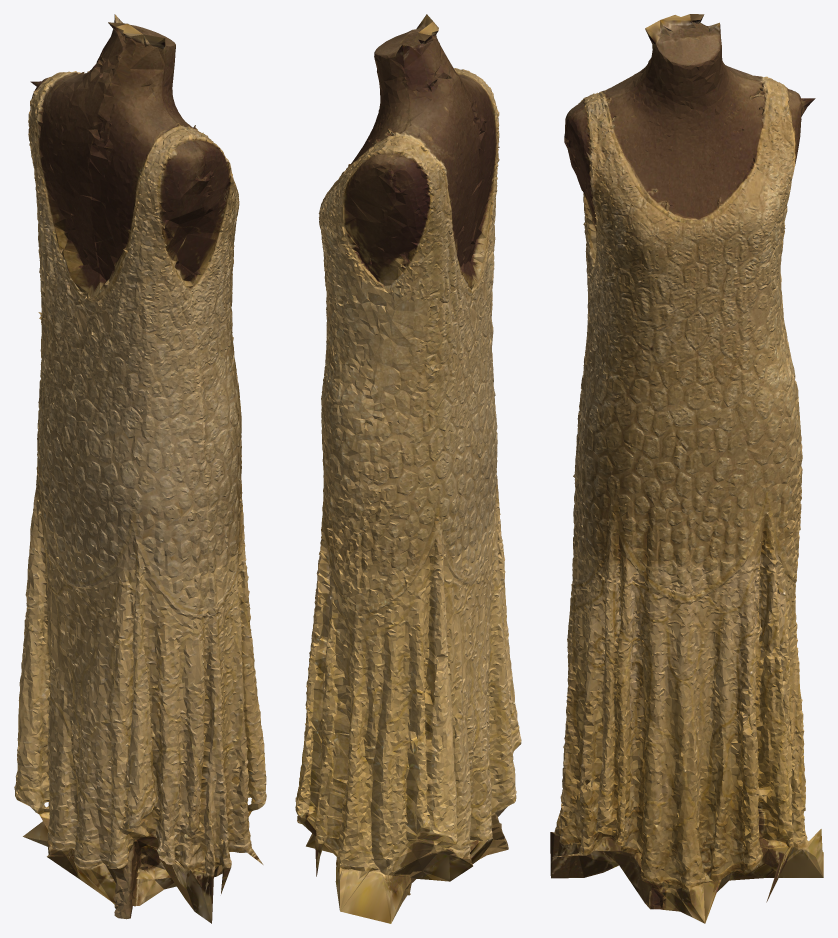
The picture shows the model from 3 angles, left to right: view 1: azimuth 30°, elevation 25°; view 2: azimuth 150°, elevation 25°; view 3: azimuth 270°, elevation 25°; orthographic projection. The views are drawn at different scales.
Parts seen in each view (by area): view 1: DR.2024; view 2: DR.2024; view 3: DR.2024.
Part boxes in pixels (<box>): DR.2024: <box>14,14,266,923</box>; DR.2024: <box>295,14,521,923</box>; DR.2024: <box>550,14,823,923</box>.
Size of the model in its own units: 6.16 by 27.44 by 7.96.
Materials: 1 (1 with a texture image).
